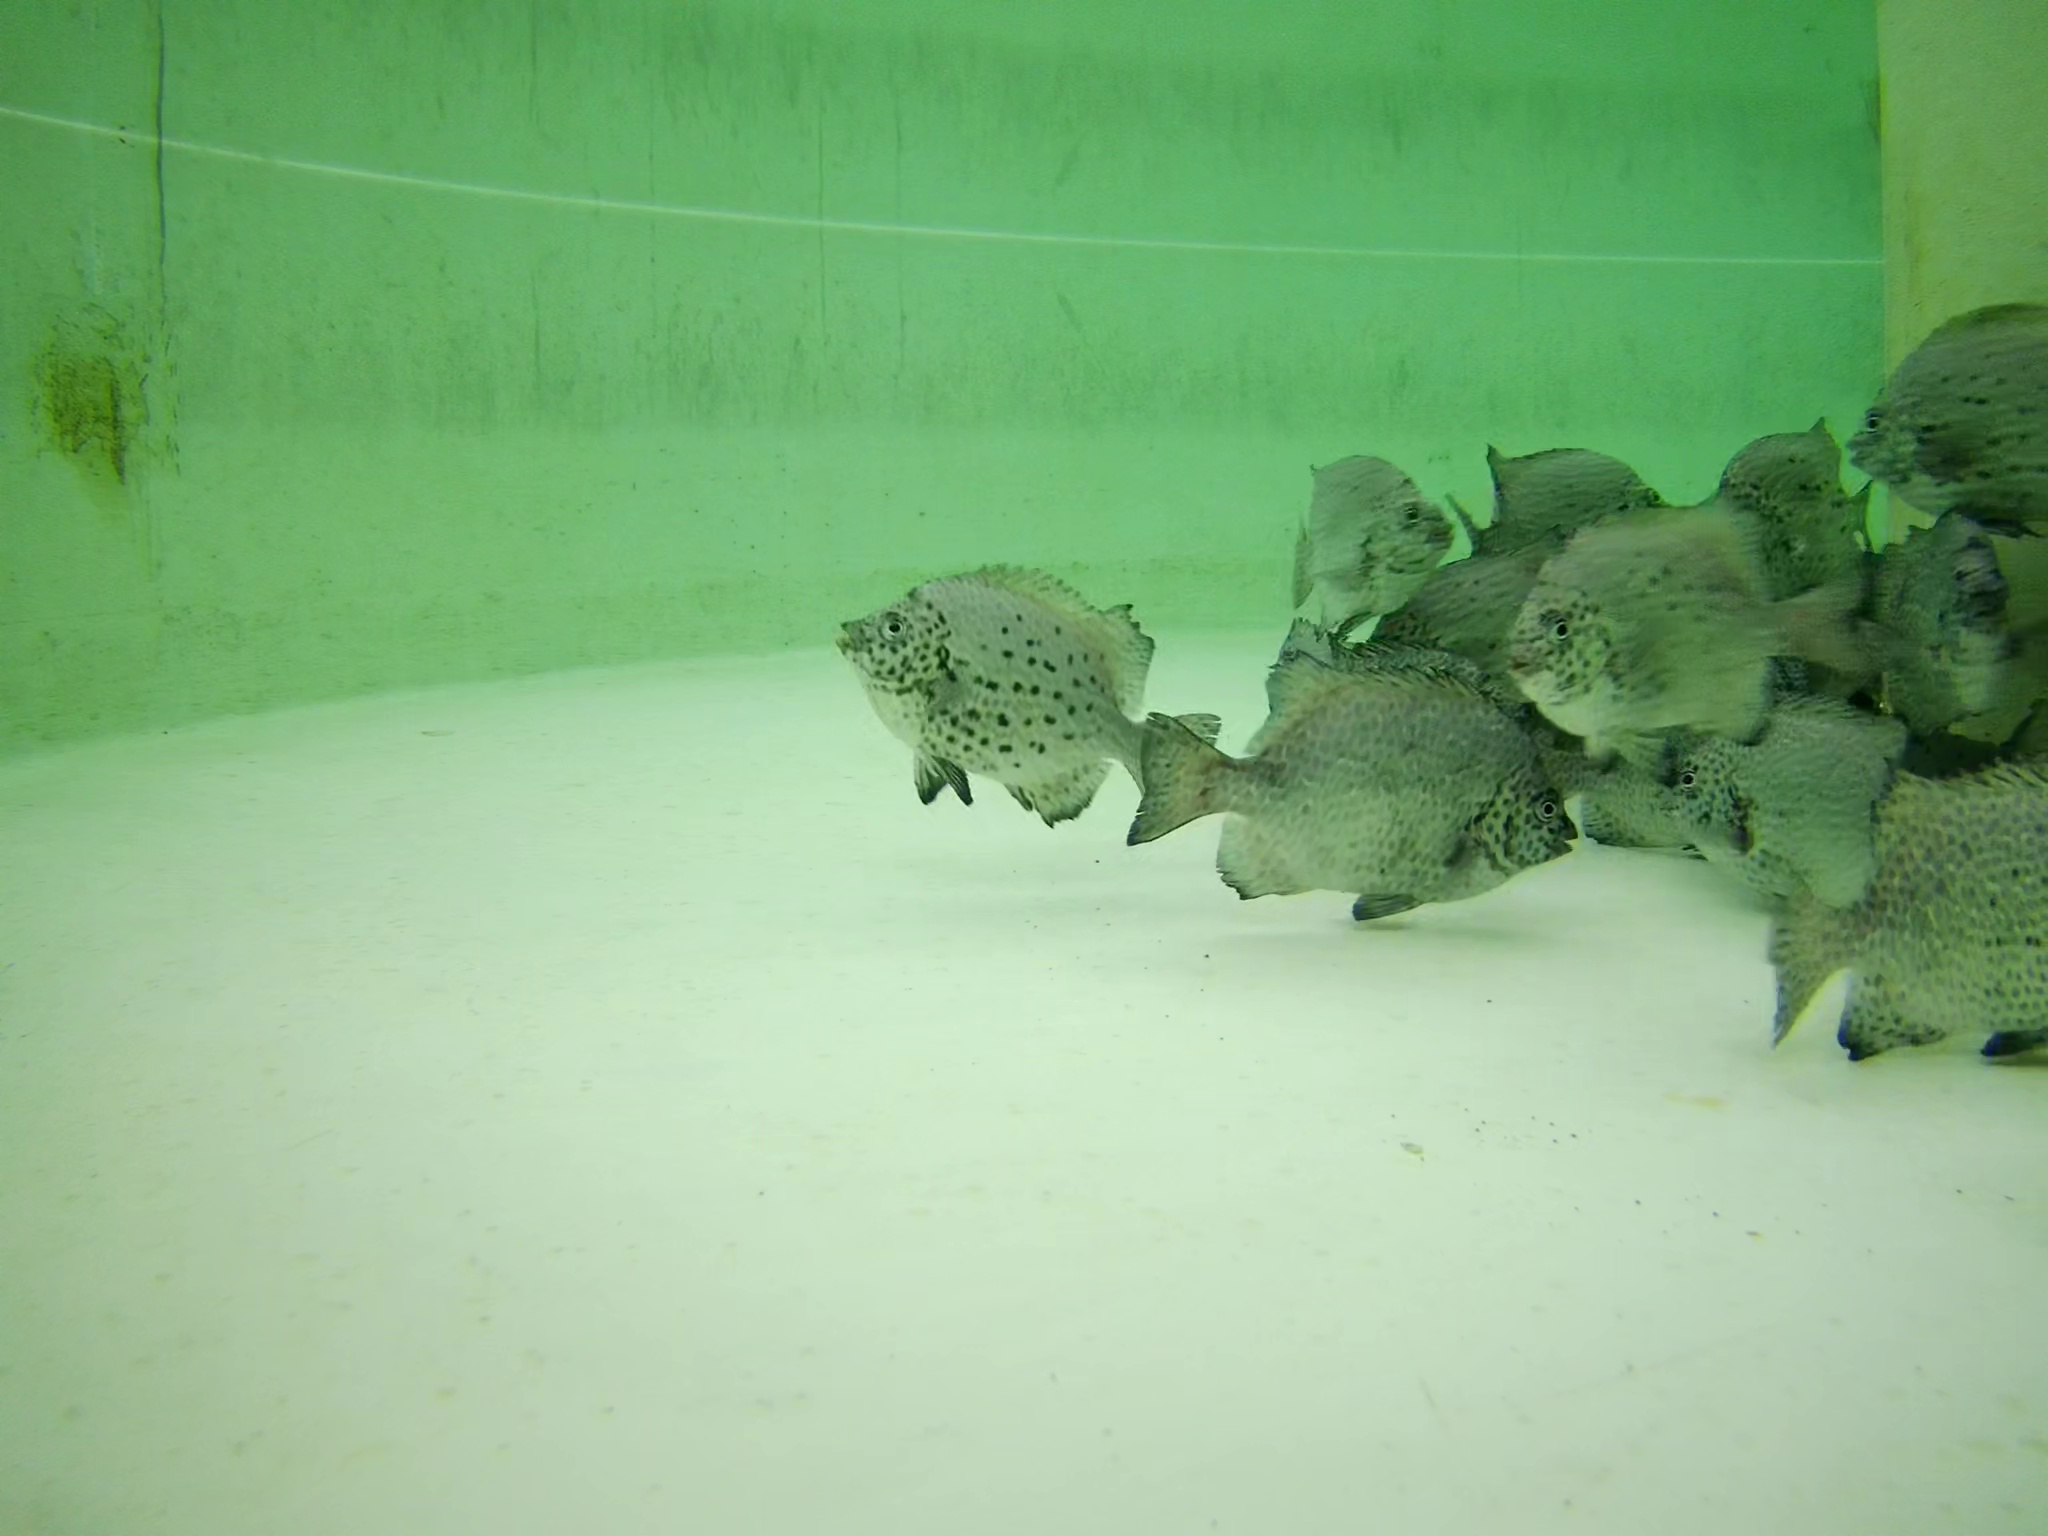fish: (1109, 618, 1579, 908), (813, 552, 1229, 802), (1738, 760, 2048, 1065), (1500, 505, 1885, 736), (1843, 292, 2048, 547), (1579, 694, 1887, 849), (1696, 411, 1895, 589), (1671, 731, 1904, 871), (1345, 571, 1601, 691), (1280, 439, 1459, 607), (1463, 445, 1682, 545), (1934, 541, 2014, 744)
